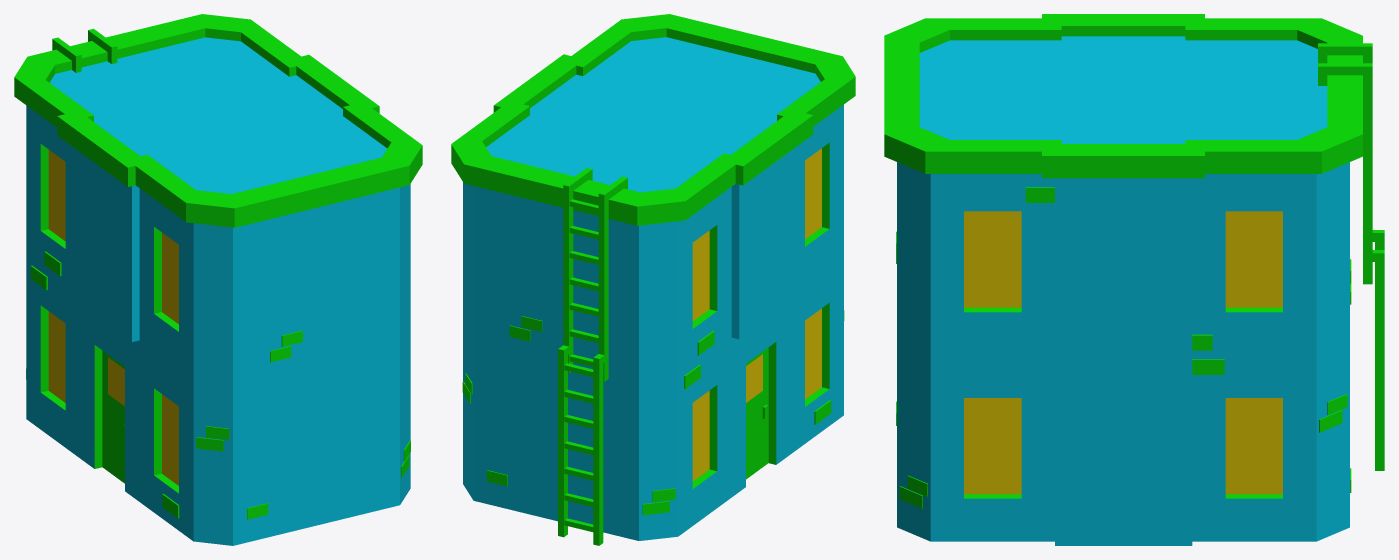
Rendered from house_5.fbx.
3 views of the same model, side by side, from view 1: azimuth 30°, elevation 25°; view 2: azimuth 150°, elevation 25°; view 3: azimuth 270°, elevation 25° (orthographic). The views are drawn at different scales.
Parts seen in each view (by area): view 1: Building_9; view 2: Building_9; view 3: Building_9.
Boxes of the visible parts, bbox=[...] form: Building_9: bbox=[14, 14, 422, 545]; Building_9: bbox=[451, 14, 855, 545]; Building_9: bbox=[884, 14, 1384, 545].
Size of the model in its own units: 680 by 904 by 1014.
